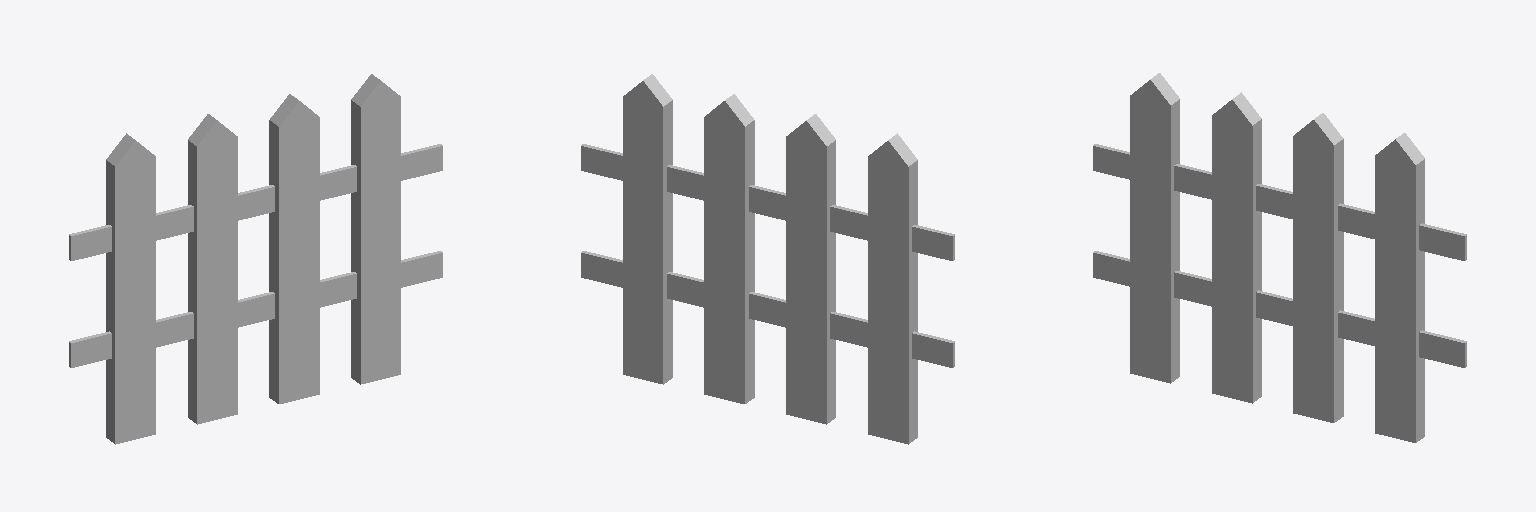
The model's file is La FenceOBJ.obj.
3 views of the same model, side by side, from view 1: azimuth 30°, elevation 25°; view 2: azimuth 150°, elevation 25°; view 3: azimuth 330°, elevation 25° (orthographic).
Visible parts, largest first — view 1: polySurface3.001_Mesh; view 2: polySurface3.001_Mesh; view 3: polySurface3.001_Mesh.
Boxes of the visible parts, x1=… form: polySurface3.001_Mesh: x1=69, y1=74, x2=442, y2=444; polySurface3.001_Mesh: x1=581, y1=74, x2=954, y2=444; polySurface3.001_Mesh: x1=1093, y1=73, x2=1466, y2=442.
Size of the model in its own units: 0.0911 by 0.07 by 0.004.